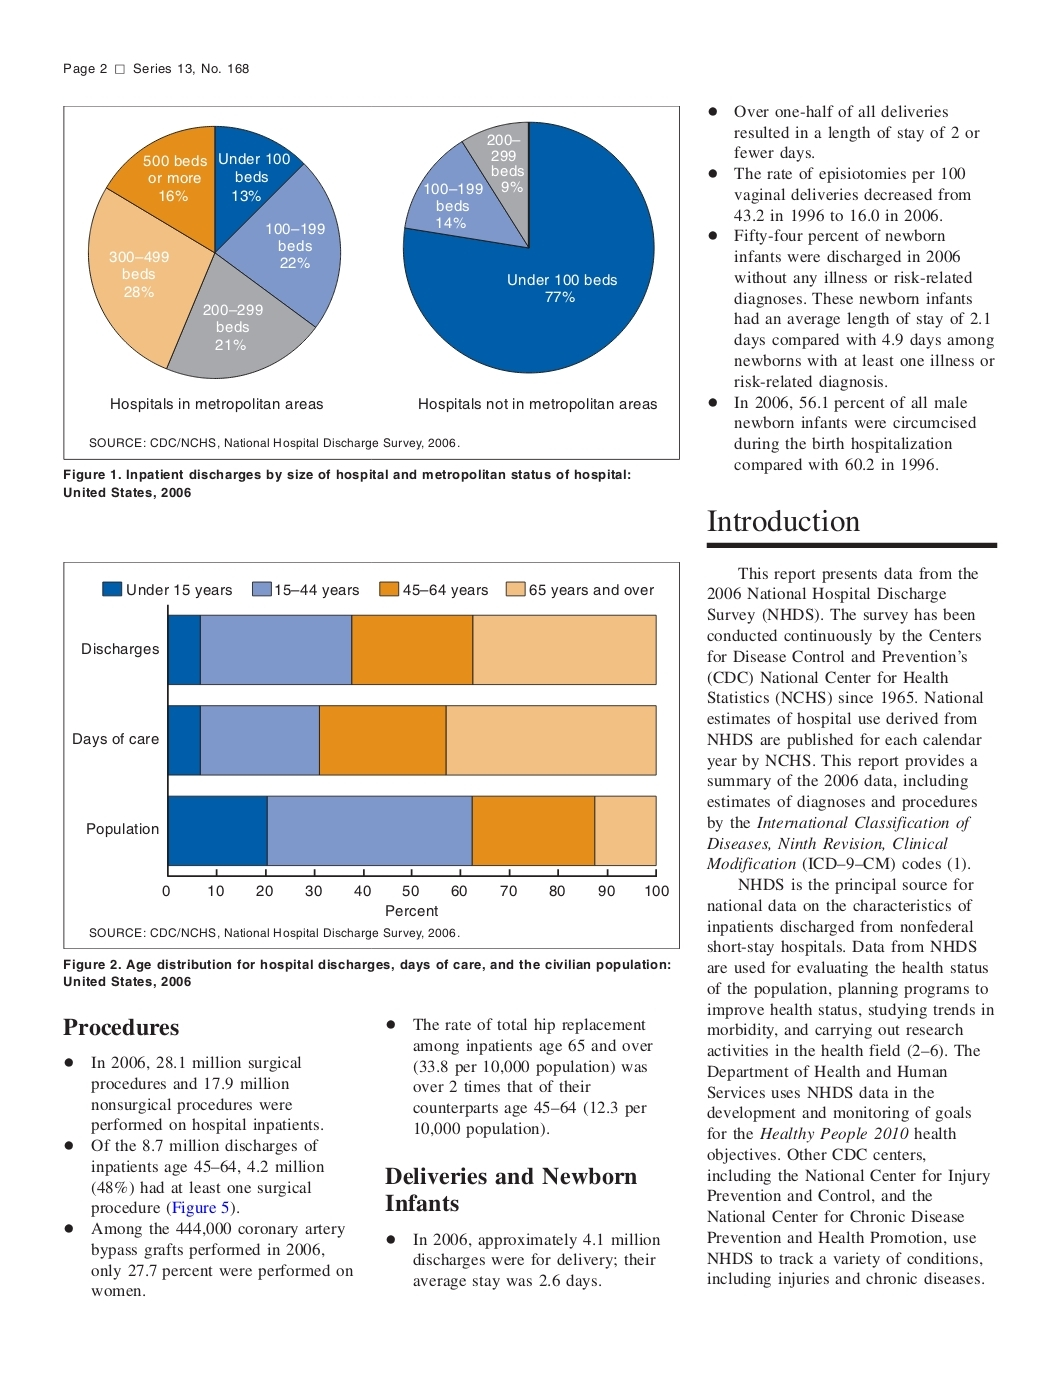figure: (64, 562, 679, 948), (64, 106, 679, 459)
